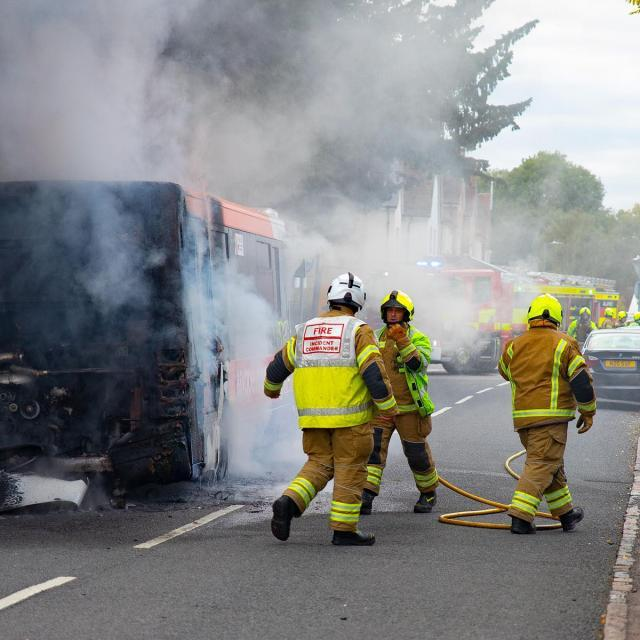Smoke: (0, 1, 553, 340)
